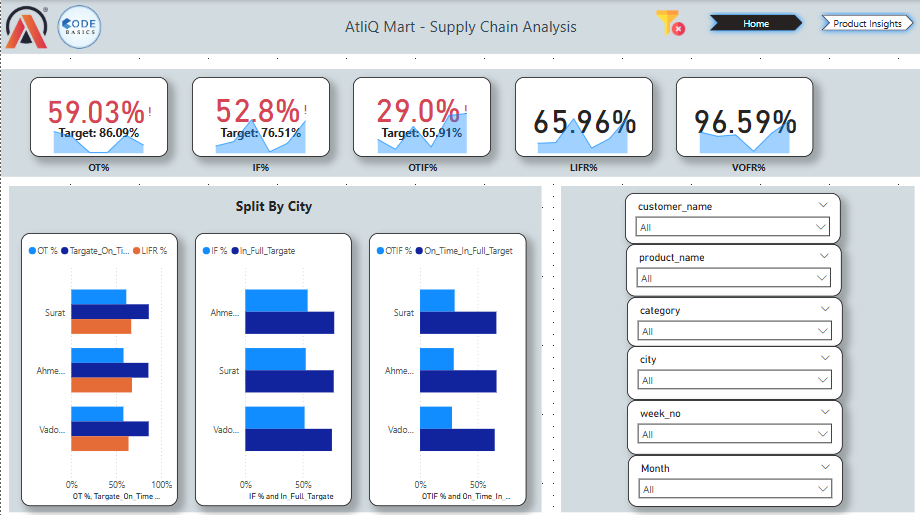

The page's visual inventory and layout, read from the dashboard file:
{"tool":"powerbi","page":{"name":"Home","canvas":[1280,720],"ordinal":0},"visuals":[{"type":"textbox","box":[0,95.9,1279.5,150.4],"z":0},{"type":"textbox","box":[0,0,1279.5,75.2],"z":1000},{"type":"kpi","fields":{"Indicator":["Resource_measures.OT %"],"TrendLine":["fact_order_lines.customer_id"],"Goal":["Resource_measures.Targate_On_Time"]},"box":[40.3,106.8,191.8,111.2],"z":2000},{"type":"kpi","fields":{"Indicator":["Resource_measures.IF %"],"TrendLine":["fact_order_lines.customer_id"],"Goal":["Resource_measures.In_Full_Targate"]},"box":[265.1,106.8,191.8,111.2],"z":3000},{"type":"kpi","fields":{"Indicator":["Resource_measures.OTIF %"],"Goal":["Resource_measures.On_Time_In_Full_Target"],"TrendLine":["fact_order_lines.customer_id"]},"box":[489.9,106.8,191.8,111.2],"z":4000},{"type":"card","fields":{"Values":["Resource_measures.LIFR %"]},"box":[714.5,106.8,191.8,111.2],"z":5000},{"type":"card","fields":{"Values":["Resource_measures.VOFR %"]},"box":[939.3,106.8,190.7,111.2],"z":6000},{"type":"textbox","box":[10.9,258.3,741.1,454.5],"z":7000},{"type":"clusteredBarChart","fields":{"Y":["Resource_measures.OT %","Resource_measures.Targate_On_Time","Resource_measures.LIFR %"],"Category":["dim_customers.city"]},"box":[27.2,324.8,218,380.4],"z":8000},{"type":"clusteredBarChart","fields":{"Y":["Resource_measures.IF %","Resource_measures.In_Full_Targate"],"Category":["dim_customers.city"]},"box":[270.3,324.8,218,380.4],"z":9000},{"type":"clusteredBarChart","fields":{"Y":["Resource_measures.OTIF %","Resource_measures.On_Time_In_Full_Target"],"Category":["dim_customers.city"]},"box":[512.2,324.8,219.1,380.4],"z":10000},{"type":"textbox","box":[779.2,258.3,491.5,454.5],"z":11000},{"type":"slicer","fields":{"Values":["dim_customers.customer_name"]},"box":[868.6,269.2,299.7,70.8],"z":12000},{"type":"slicer","fields":{"Values":["dim_products.product_name"]},"box":[869.7,340,299.7,73],"z":13000},{"type":"slicer","fields":{"Values":["dim_products.category"]},"box":[870.8,413.1,299.7,68.7],"z":14000},{"type":"slicer","fields":{"Values":["dim_customers.city"]},"box":[870.8,481.7,299.7,75.2],"z":15000},{"type":"slicer","fields":{"Values":["dim_date.week_no"]},"box":[870.8,556.9,299.7,76.3],"z":16000},{"type":"slicer","fields":{"Values":["dim_date.date.Variation.Date Hierarchy.Month"]},"box":[871.9,633.2,298.6,71.9],"z":17000},{"type":"areaChart","fields":{"Category":["dim_date.date.Variation.Date Hierarchy.Month"],"Y":["Resource_measures.OT %"]},"box":[58.9,156.9,154.8,61],"z":18000},{"type":"areaChart","fields":{"Category":["dim_date.date.Variation.Date Hierarchy.Month"],"Y":["Resource_measures.IF %"]},"box":[283.4,142.8,154.8,75.2],"z":19000},{"type":"areaChart","fields":{"Category":["dim_date.date.Variation.Date Hierarchy.Month"],"Y":["Resource_measures.OTIF %"]},"box":[509,142.8,153.7,75.2],"z":20000},{"type":"areaChart","fields":{"Category":["dim_date.date.Variation.Date Hierarchy.Month"],"Y":["Resource_measures.LIFR %"]},"box":[731.3,142.8,154.8,75.2],"z":21000},{"type":"areaChart","fields":{"Category":["dim_date.date.Variation.Date Hierarchy.Month"],"Y":["Resource_measures.VOFR %"]},"box":[956.9,142.8,154.8,75.2],"z":22000},{"type":"pageNavigator","box":[978.7,12,300.8,38.1],"z":23000},{"type":"image","box":[903.5,7.6,58.9,50.1],"z":24000},{"type":"image","box":[0,0,71.9,75.2],"z":25000},{"type":"image","box":[69.8,0,79.6,75.2],"z":26000},{"type":"textbox","box":[27.2,269.2,704,36],"z":27000},{"type":"textbox","box":[58.9,218,154.8,28.3],"z":28000},{"type":"textbox","box":[283.4,218,154.8,28.3],"z":29000},{"type":"textbox","box":[509,218,154.8,28.3],"z":30000},{"type":"textbox","box":[733.5,218,154.8,28.3],"z":31000},{"type":"textbox","box":[962.3,218,154.8,28.3],"z":32000}]}

Visuals, with their boxes in screenshot pixels (x1, y1, x2, y2), scaled from the page's 1280x720 canvas onto the 920x515 screenshot:
textbox: bbox=(0, 69, 919, 176)
textbox: bbox=(0, 0, 919, 54)
kpi - Resource_measures.OT % x fact_order_lines.customer_id: bbox=(29, 76, 167, 156)
kpi - Resource_measures.IF % x fact_order_lines.customer_id: bbox=(191, 76, 328, 156)
kpi - Resource_measures.OTIF % x Resource_measures.On_Time_In_Full_Target: bbox=(352, 76, 490, 156)
card - Resource_measures.LIFR %: bbox=(514, 76, 651, 156)
card - Resource_measures.VOFR %: bbox=(675, 76, 812, 156)
textbox: bbox=(8, 185, 540, 510)
clusteredBarChart - Resource_measures.OT % x Resource_measures.Targate_On_Time: bbox=(20, 232, 176, 504)
clusteredBarChart - Resource_measures.IF % x Resource_measures.In_Full_Targate: bbox=(194, 232, 351, 504)
clusteredBarChart - Resource_measures.OTIF % x Resource_measures.On_Time_In_Full_Target: bbox=(368, 232, 526, 504)
textbox: bbox=(560, 185, 913, 510)
slicer - dim_customers.customer_name: bbox=(624, 193, 840, 243)
slicer - dim_products.product_name: bbox=(625, 243, 841, 295)
slicer - dim_products.category: bbox=(626, 295, 841, 345)
slicer - dim_customers.city: bbox=(626, 345, 841, 398)
slicer - dim_date.week_no: bbox=(626, 398, 841, 453)
slicer - dim_date.date.Variation.Date Hierarchy.Month: bbox=(627, 453, 841, 504)
areaChart - dim_date.date.Variation.Date Hierarchy.Month x Resource_measures.OT %: bbox=(42, 112, 154, 156)
areaChart - dim_date.date.Variation.Date Hierarchy.Month x Resource_measures.IF %: bbox=(204, 102, 315, 156)
areaChart - dim_date.date.Variation.Date Hierarchy.Month x Resource_measures.OTIF %: bbox=(366, 102, 476, 156)
areaChart - dim_date.date.Variation.Date Hierarchy.Month x Resource_measures.LIFR %: bbox=(526, 102, 637, 156)
areaChart - dim_date.date.Variation.Date Hierarchy.Month x Resource_measures.VOFR %: bbox=(688, 102, 799, 156)
pageNavigator: bbox=(703, 9, 919, 36)
image: bbox=(649, 5, 692, 41)
image: bbox=(0, 0, 52, 54)
image: bbox=(50, 0, 107, 54)
textbox: bbox=(20, 193, 526, 218)
textbox: bbox=(42, 156, 154, 176)
textbox: bbox=(204, 156, 315, 176)
textbox: bbox=(366, 156, 477, 176)
textbox: bbox=(527, 156, 638, 176)
textbox: bbox=(692, 156, 803, 176)
